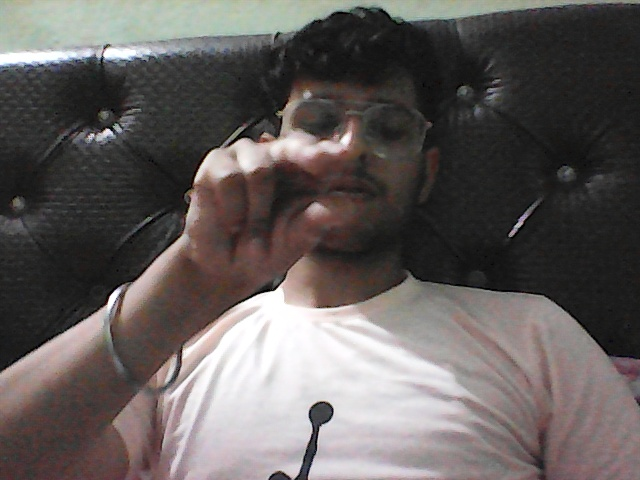no: (146, 130, 362, 310)
